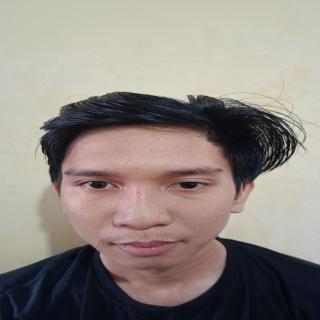Netral: (65, 125, 242, 273)
